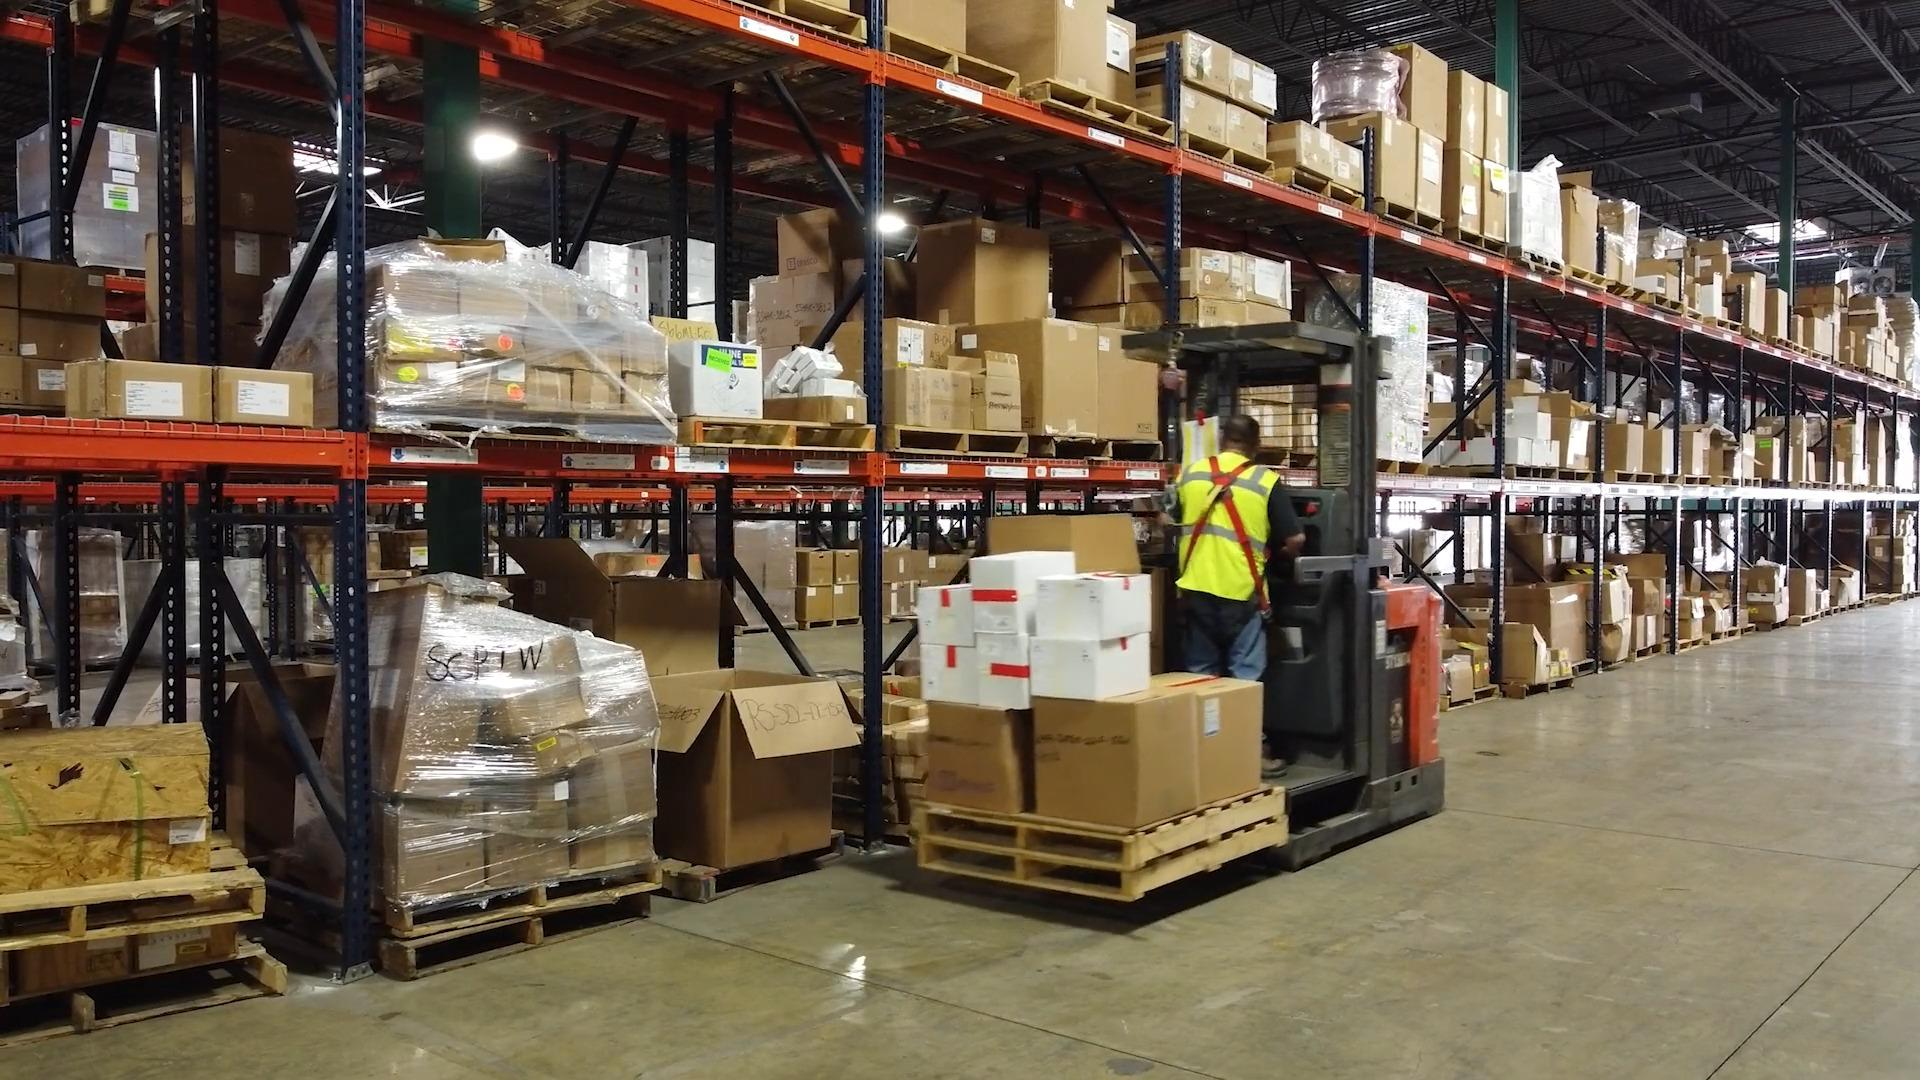-: (658, 669, 845, 874), (500, 526, 716, 671), (1026, 695, 1189, 828), (965, 315, 1097, 440), (971, 3, 1135, 91), (1158, 670, 1257, 808), (915, 214, 1042, 318), (931, 700, 1034, 818), (53, 356, 219, 418), (978, 543, 1065, 642), (1026, 636, 1154, 700), (1121, 240, 1247, 305), (1048, 566, 1143, 650), (667, 339, 764, 417), (1510, 580, 1580, 678), (1100, 359, 1167, 451), (754, 276, 839, 347), (1137, 30, 1229, 92), (220, 368, 315, 421), (777, 211, 857, 272), (965, 360, 1027, 434), (1141, 86, 1225, 140), (909, 638, 977, 700), (1437, 138, 1485, 227), (1373, 113, 1418, 202), (1516, 170, 1560, 258), (1406, 50, 1453, 131), (1269, 121, 1332, 179), (918, 580, 977, 641), (1226, 46, 1278, 115), (1563, 181, 1601, 270), (895, 371, 959, 425), (886, 315, 953, 363), (973, 650, 1030, 703), (1246, 253, 1298, 309), (1453, 78, 1487, 157), (1224, 104, 1269, 162), (1582, 578, 1631, 620), (1551, 415, 1590, 465), (1329, 138, 1365, 194), (1604, 423, 1643, 472), (1510, 394, 1553, 438), (796, 547, 833, 587), (1460, 641, 1489, 690), (1680, 430, 1709, 476), (1644, 430, 1676, 472), (1789, 567, 1816, 616), (1444, 657, 1473, 700), (798, 585, 832, 618), (1636, 576, 1665, 615), (829, 549, 860, 583), (1750, 566, 1783, 595), (1756, 438, 1779, 477), (1680, 596, 1701, 637), (833, 584, 860, 616), (1503, 436, 1531, 464), (1532, 442, 1560, 468), (1746, 603, 1784, 621), (1746, 591, 1787, 605)
